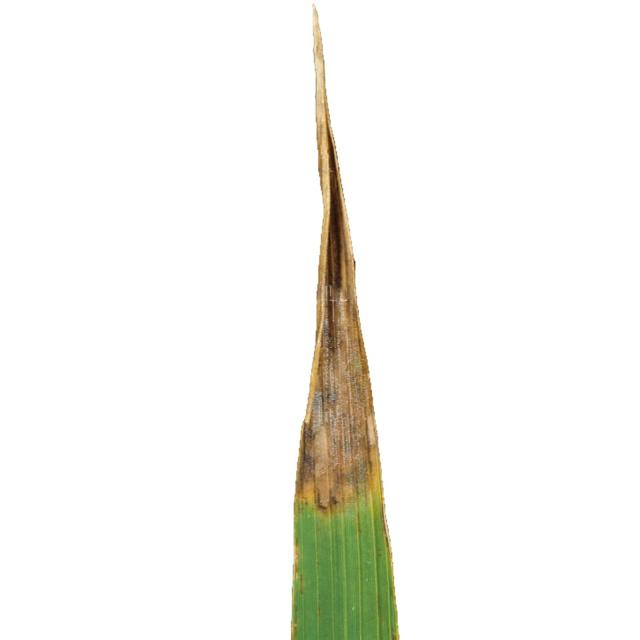Leaf scald: (260, 0, 464, 640)
